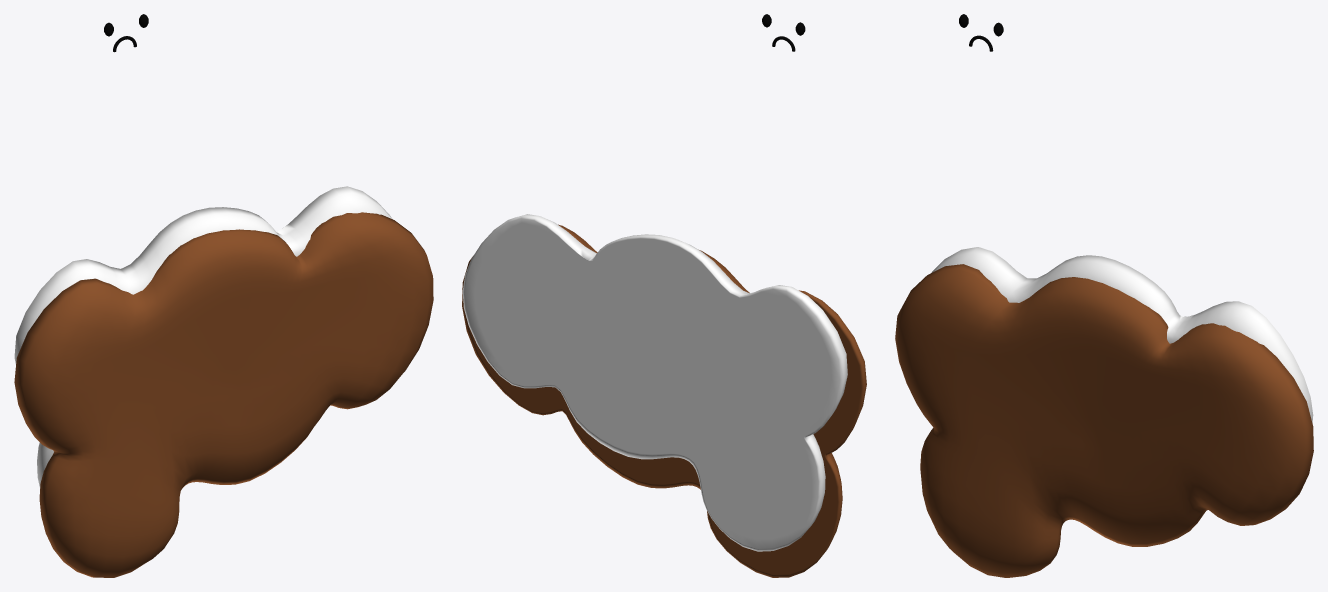
The model's file is Cloud_mirror.FBX.
3 views of the same model, side by side, from view 1: azimuth 30°, elevation 25°; view 2: azimuth 150°, elevation 25°; view 3: azimuth 330°, elevation 25° (orthographic). The views are drawn at different scales.
Visible parts, largest first — view 1: Box002, Box003; view 2: Box003, Box002; view 3: Box002, Box003.
Boxes of the visible parts, bbox=[...] form: Box002: bbox=[14, 212, 433, 577]; Box003: bbox=[14, 186, 392, 488]; Box003: bbox=[462, 214, 847, 551]; Box002: bbox=[462, 224, 866, 577]; Box002: bbox=[895, 264, 1313, 577]; Box003: bbox=[931, 247, 1313, 422].
Bounding box in the file's own units: 90.53 × 118 × 10.68.
